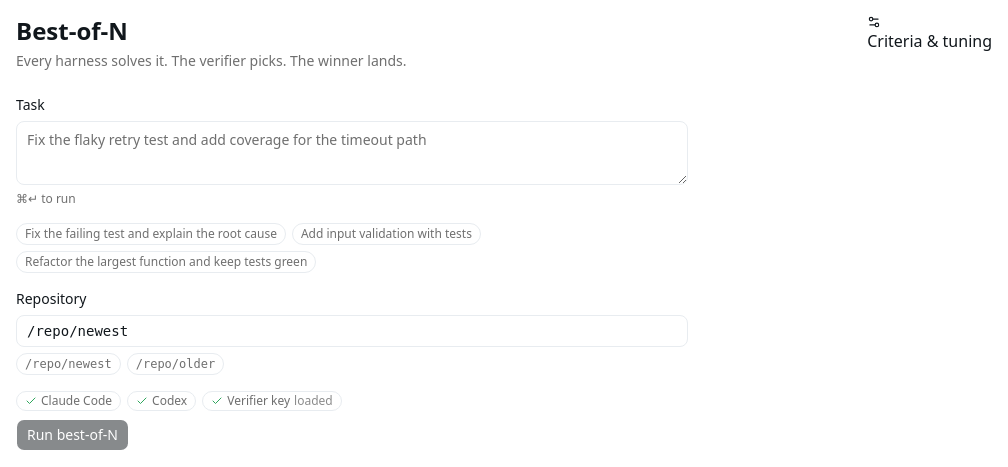
BestOfNRunPage › prefills the repo from the most recent run and fills from a clicked chip
The width and height of the screenshot is (1008, 467).
Expected: the field with test id "best-of-n-run-repo" holds "/repo/newest", [16, 315, 688, 347]
Expected: the button with test id "best-of-n-recent-repo-0" reads "/repo/newest", [16, 353, 121, 375]
Step 1. Click the button with test id "best-of-n-recent-repo-1" → point(175, 364), box [127, 353, 224, 375]
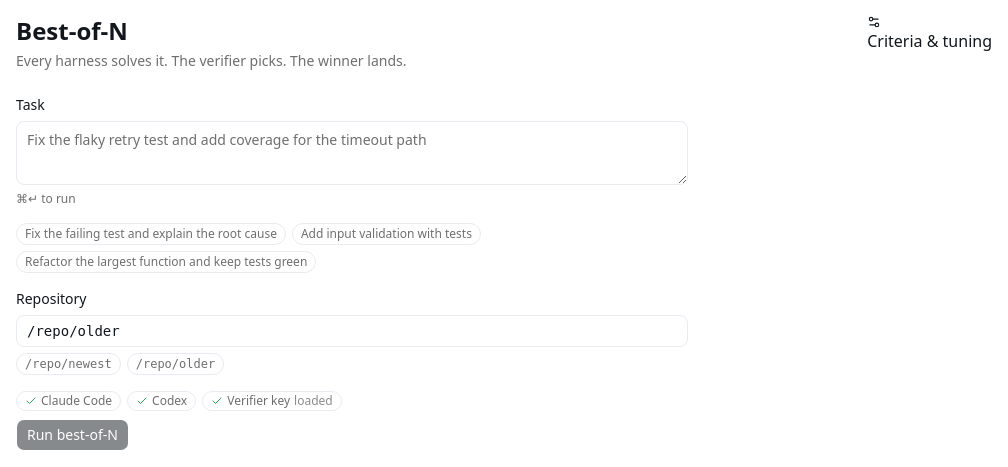
Now the field with test id "best-of-n-run-repo" holds "/repo/older", box [16, 315, 688, 347]
